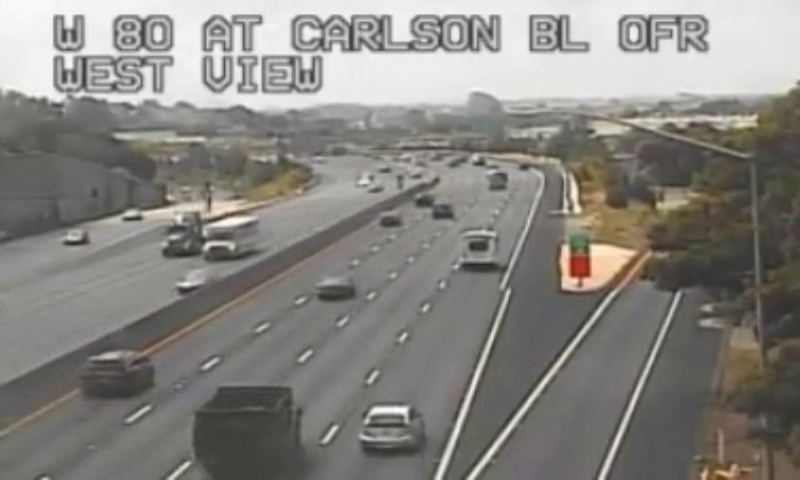bus: (459, 230, 499, 268)
car: (78, 350, 153, 393), (359, 404, 423, 449), (314, 276, 351, 297)
small-truck: (193, 387, 300, 454)
